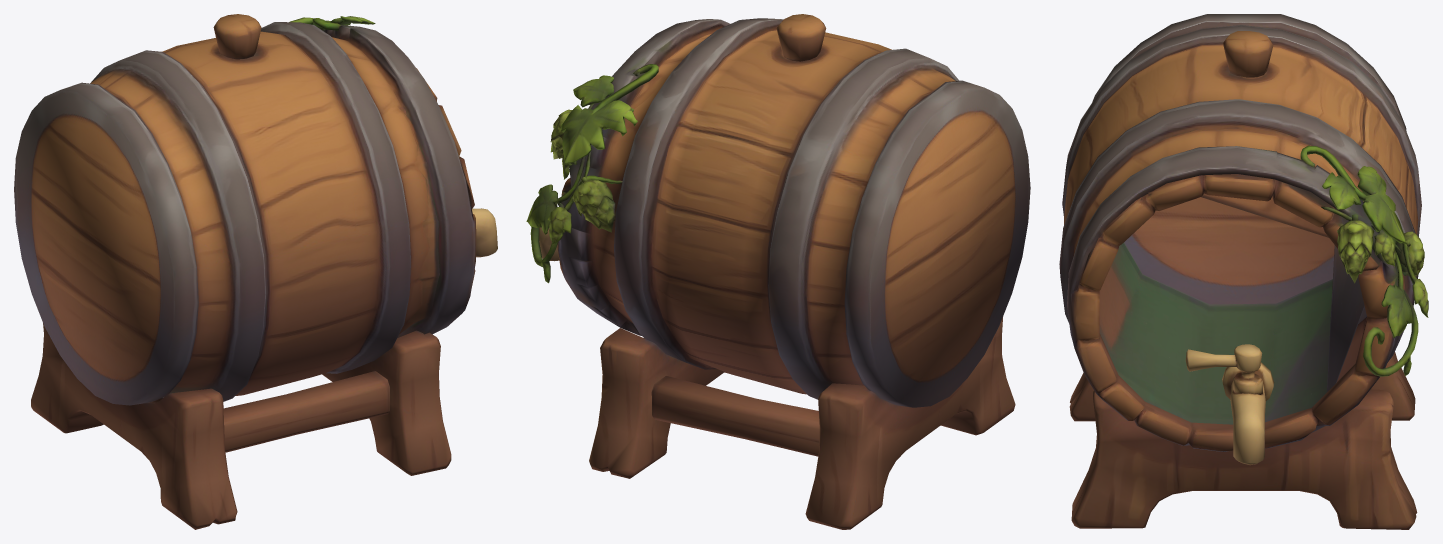
Rendered from bigkeg_tripo.glb.
3 views of the same model, side by side, from view 1: azimuth 30°, elevation 25°; view 2: azimuth 150°, elevation 25°; view 3: azimuth 270°, elevation 25° (orthographic). The views are drawn at different scales.
Parts seen in each view (by area): view 1: tripo_node_21b094e5-95eb-4ca9-ac2b-3106f3074609; view 2: tripo_node_21b094e5-95eb-4ca9-ac2b-3106f3074609; view 3: tripo_node_21b094e5-95eb-4ca9-ac2b-3106f3074609.
Boxes of the visible parts, <box> form: tripo_node_21b094e5-95eb-4ca9-ac2b-3106f3074609: <box>14,14,497,529</box>; tripo_node_21b094e5-95eb-4ca9-ac2b-3106f3074609: <box>526,14,1030,529</box>; tripo_node_21b094e5-95eb-4ca9-ac2b-3106f3074609: <box>1059,14,1428,529</box>.
Size of the model in its own units: 0.998 by 0.9863 by 0.7715.
1 material, 1 textured.
